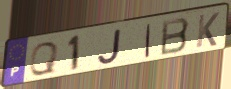1: (66, 33, 82, 73)
B: (159, 16, 191, 58)
I: (143, 23, 153, 59)
J: (96, 27, 124, 66)
K: (194, 11, 221, 50)
Q: (28, 40, 60, 77)
